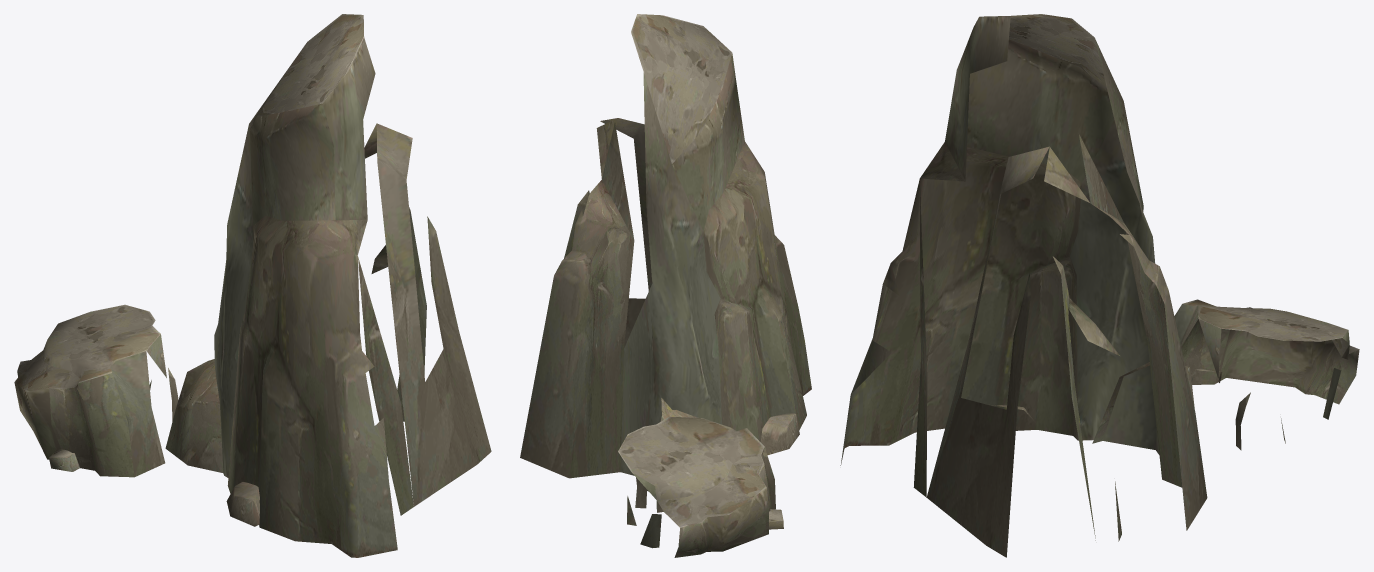
File: shitpi_07.FBX
3 renders of one model, left to right at view 1: azimuth 30°, elevation 25°; view 2: azimuth 150°, elevation 25°; view 3: azimuth 270°, elevation 25°, orthographic. The views are drawn at different scales.
Visible parts, largest first — view 1: shitpi_07; view 2: shitpi_07; view 3: shitpi_07.
Part boxes in pixels (x1,y1,x2,y2): shitpi_07: (14,14,491,557); shitpi_07: (520,14,811,557); shitpi_07: (840,14,1359,557).
Bounding box in the file's own units: 2.94 × 3.62 × 3.5.
